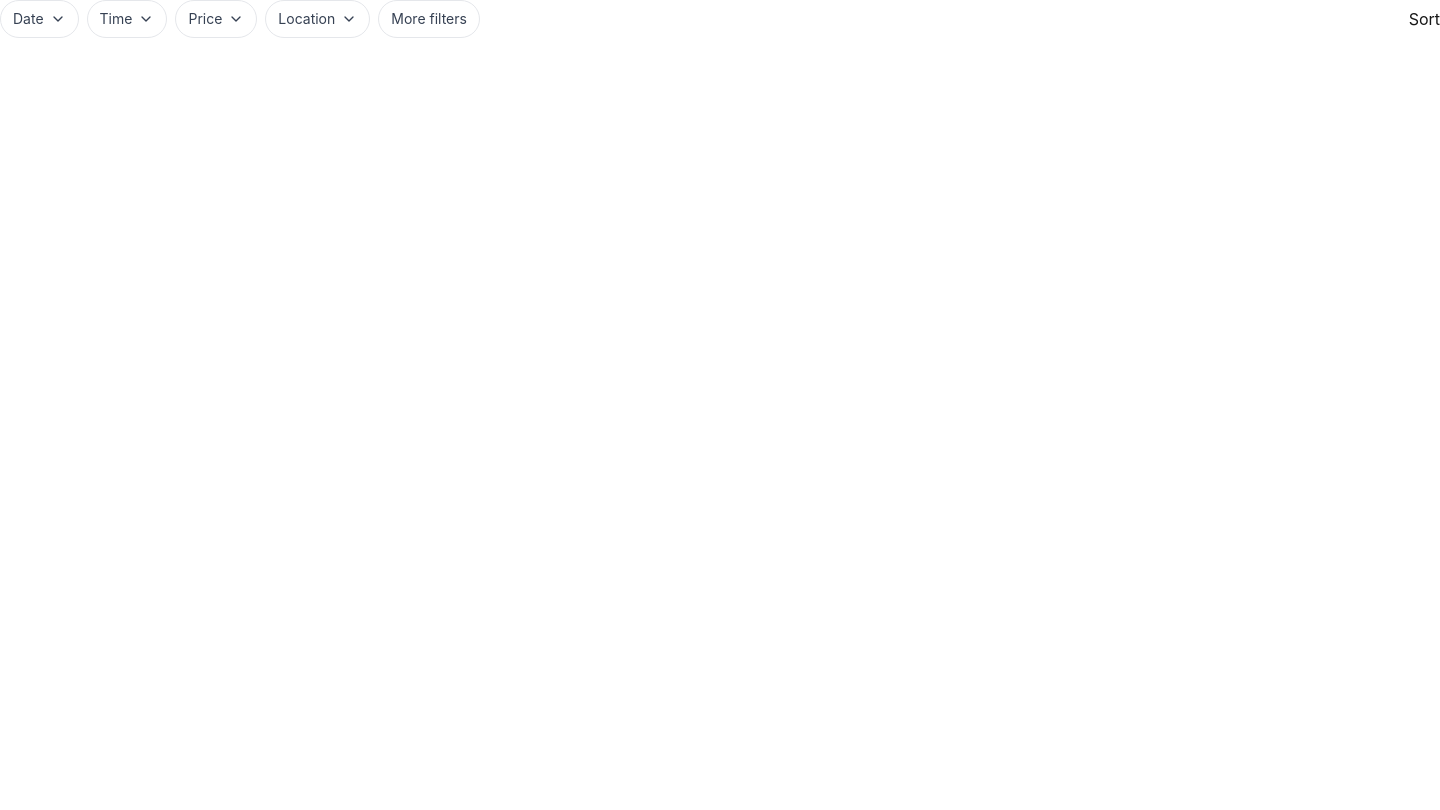
it: FilterBar › renders taxonomy content filters when provided and counts them as active
This screenshot has width=1440, height=810.
Click the button "More filters" at [429, 19], box top-left (378, 0), bottom-right (480, 38)
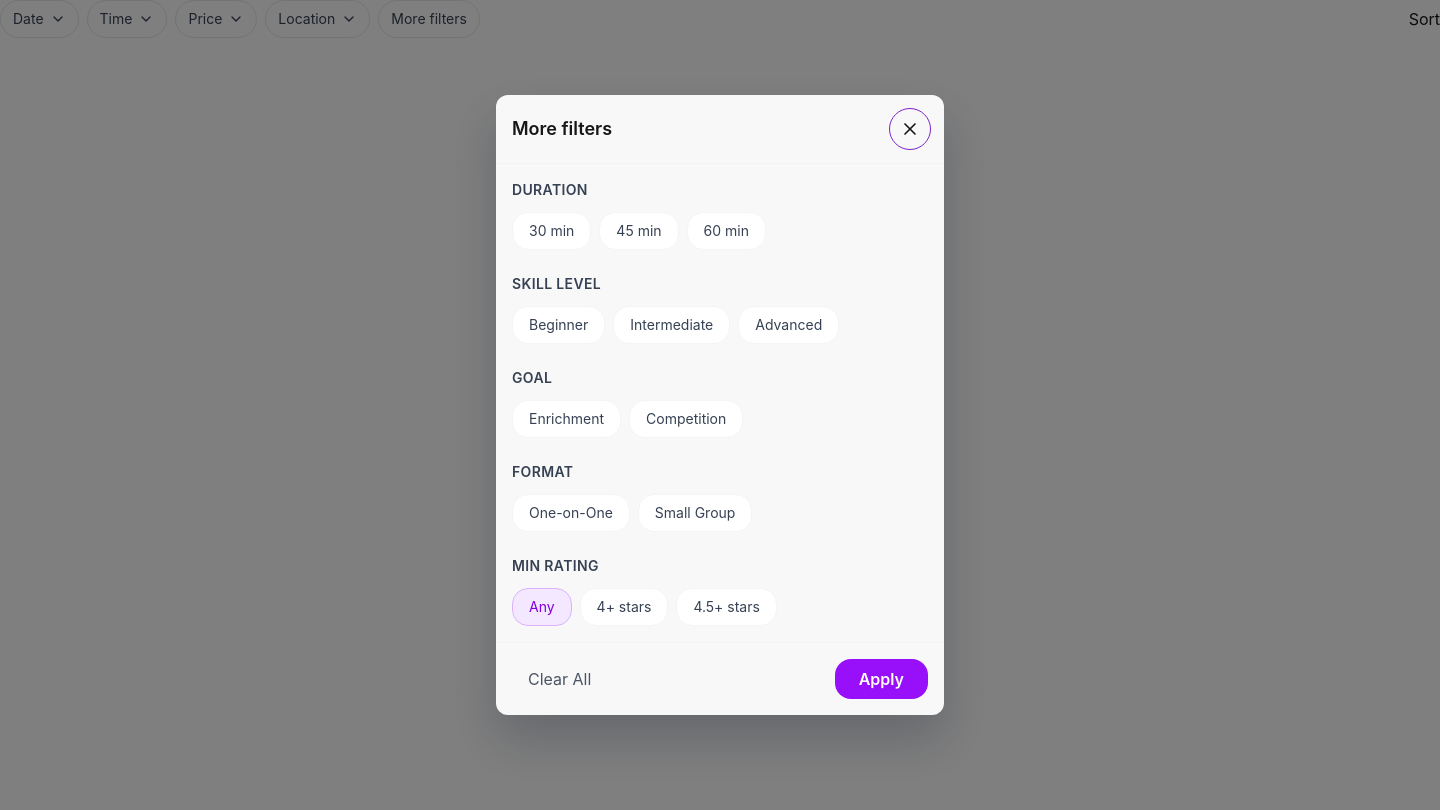
Check: the heading "Goal" is shown, box top-left (512, 369), bottom-right (552, 386)
Check: the heading "Format" is shown, box top-left (512, 463), bottom-right (573, 480)
Click the text "Enrichment" at [566, 419], box top-left (529, 409), bottom-right (604, 429)
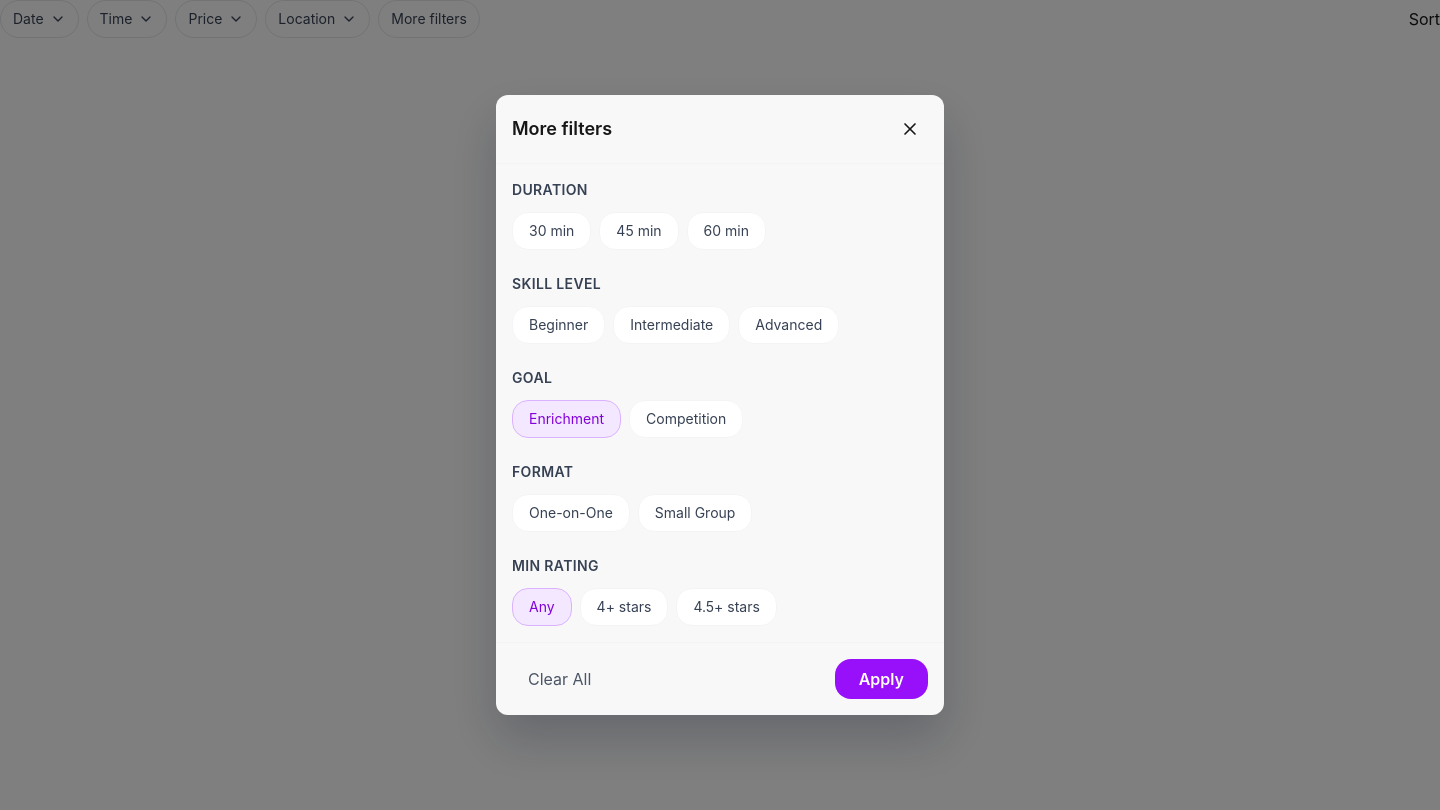
Click the text "One-on-One" at [571, 513], box top-left (529, 503), bottom-right (613, 523)
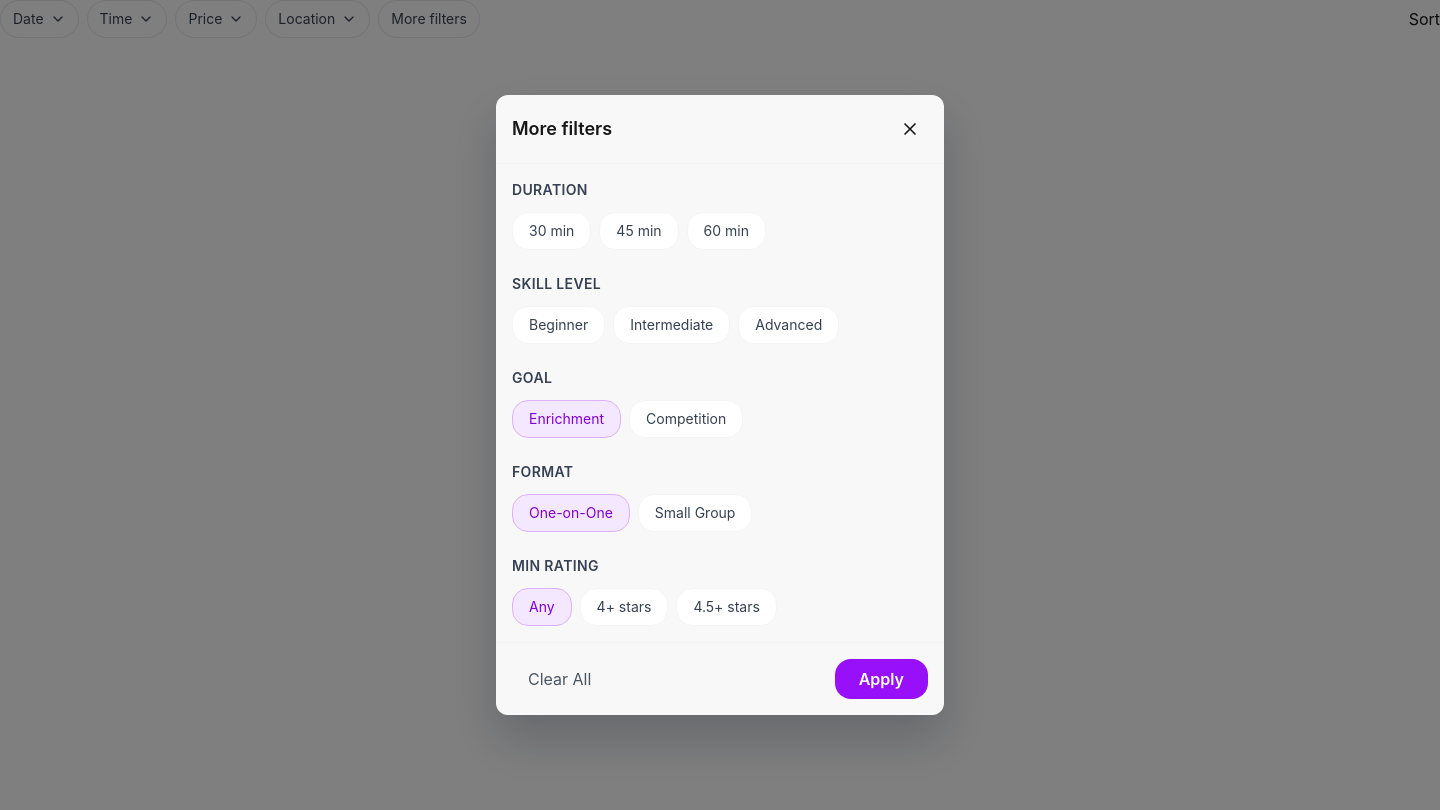
Click the button "Apply" at [881, 679], box top-left (835, 659), bottom-right (928, 699)
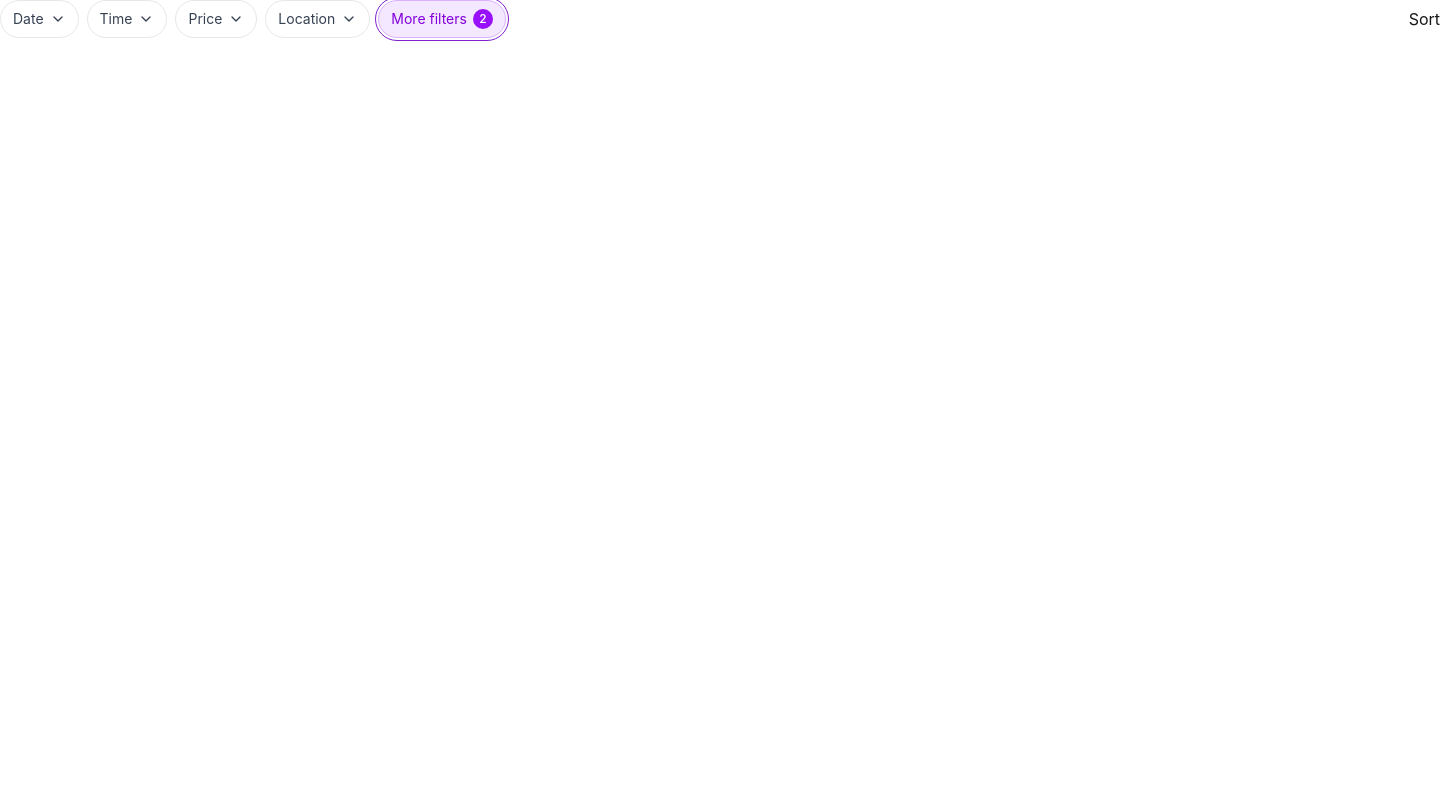
Check: the text "2" is shown, box top-left (473, 9), bottom-right (493, 29)
